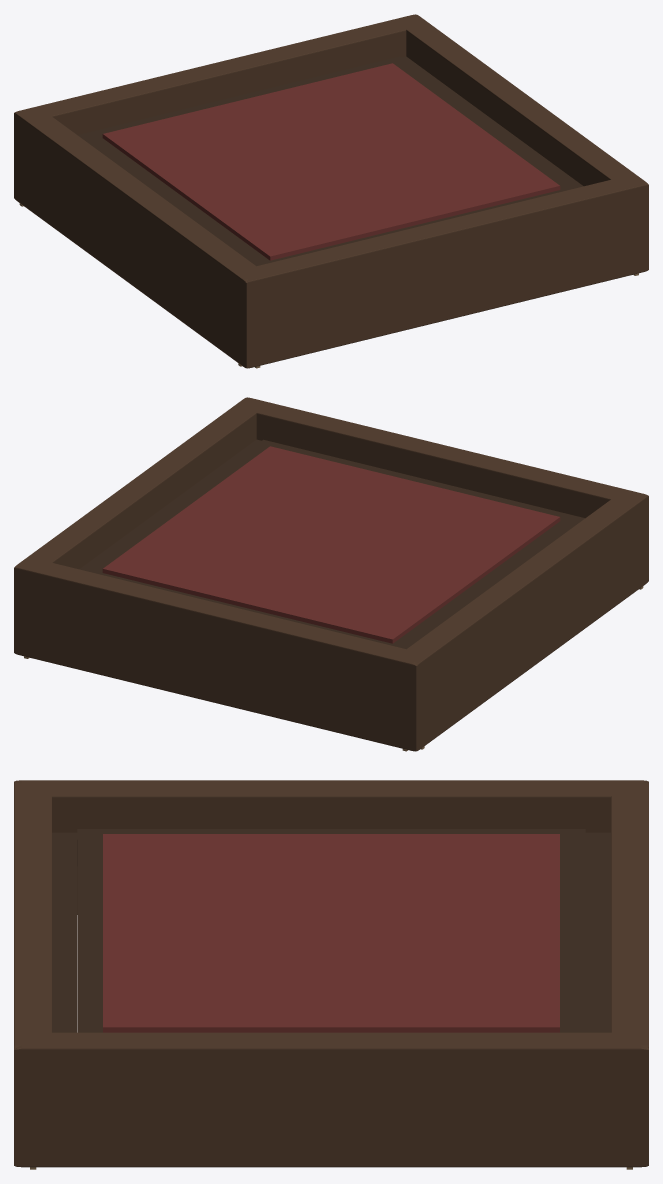
Rendered from arch_coffer.glb.
The picture shows the model from 3 angles, top to bottom: view 1: azimuth 30°, elevation 25°; view 2: azimuth 150°, elevation 25°; view 3: azimuth 270°, elevation 25°; orthographic projection. The views are drawn at different scales.
Visible parts, largest first — view 1: arch_coffer; view 2: arch_coffer; view 3: arch_coffer.
Part boxes in pixels (box(x1,y1,x2,y2)): arch_coffer: box(14, 14, 648, 368); arch_coffer: box(14, 397, 648, 751); arch_coffer: box(14, 780, 648, 1169).
Bounding box in the file's own units: 3 × 0.632 × 3.
